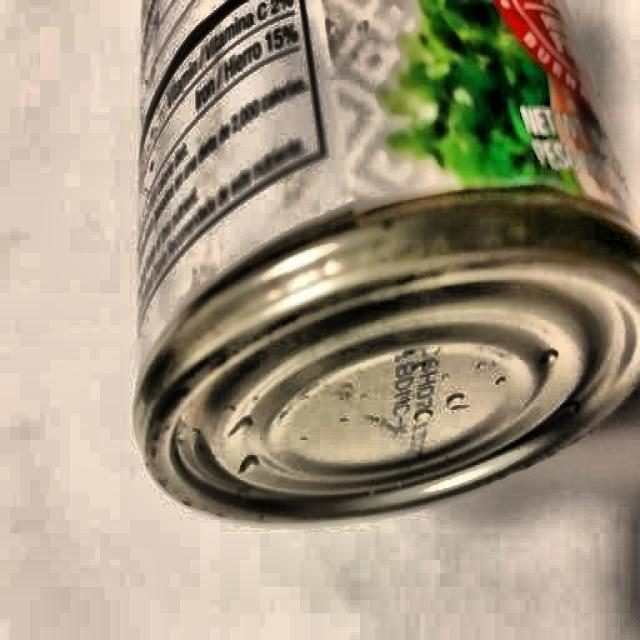metal: (132, 7, 640, 540)
